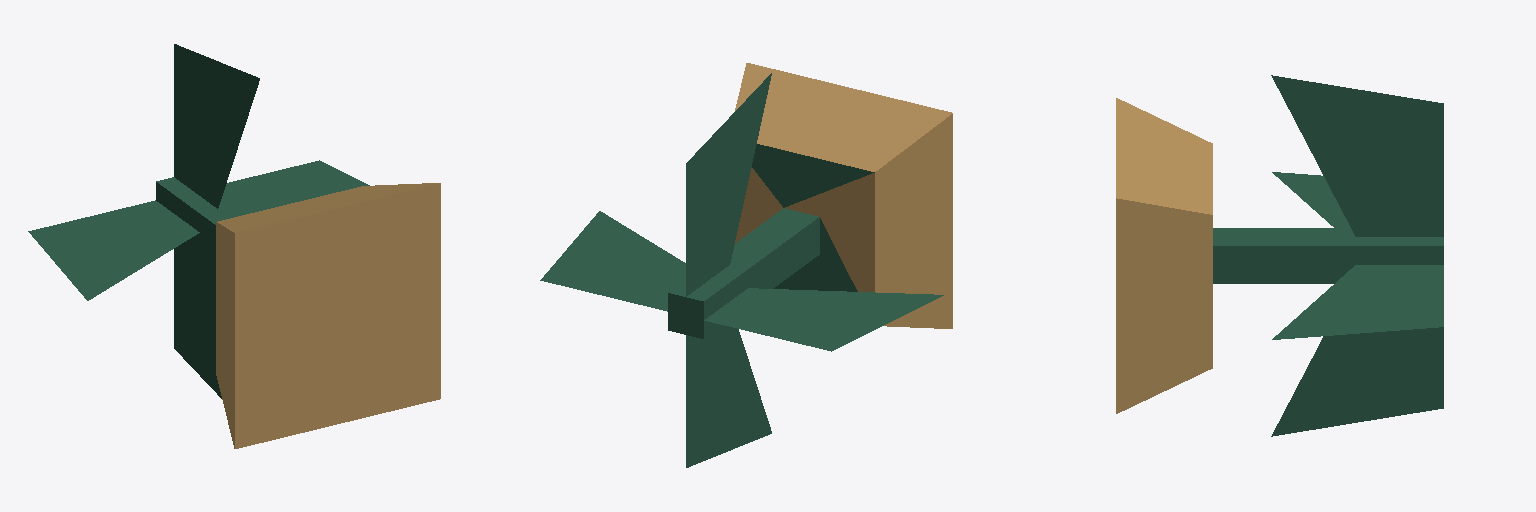
File: flower6.obj
The picture shows the model from 3 angles: view 1: azimuth 30°, elevation 25°; view 2: azimuth 150°, elevation 25°; view 3: azimuth 270°, elevation 25°; orthographic projection.
Parts seen in each view (by area): view 1: Mesh3_Flower_Yellow_Model, Mesh4_Flower_Yellow_Model, Mesh2_Flower_Yellow_Model, Mesh1_Flower_Yellow_Model, Mesh5_Flower_Yellow_Model; view 2: Mesh3_Flower_Yellow_Model, Mesh4_Flower_Yellow_Model, Mesh2_Flower_Yellow_Model, Mesh1_Flower_Yellow_Model, Mesh5_Flower_Yellow_Model; view 3: Mesh3_Flower_Yellow_Model, Mesh4_Flower_Yellow_Model, Mesh1_Flower_Yellow_Model, Mesh5_Flower_Yellow_Model, Mesh2_Flower_Yellow_Model.
Part boxes in pixels (bbox=[...]): Mesh3_Flower_Yellow_Model: bbox=[156, 177, 440, 448]; Mesh4_Flower_Yellow_Model: bbox=[174, 44, 259, 208]; Mesh2_Flower_Yellow_Model: bbox=[28, 200, 199, 300]; Mesh1_Flower_Yellow_Model: bbox=[174, 242, 221, 398]; Mesh5_Flower_Yellow_Model: bbox=[223, 160, 369, 213]; Mesh3_Flower_Yellow_Model: bbox=[668, 63, 952, 338]; Mesh4_Flower_Yellow_Model: bbox=[686, 73, 771, 296]; Mesh2_Flower_Yellow_Model: bbox=[704, 288, 943, 351]; Mesh1_Flower_Yellow_Model: bbox=[686, 325, 771, 467]; Mesh5_Flower_Yellow_Model: bbox=[540, 211, 685, 311]; Mesh3_Flower_Yellow_Model: bbox=[1116, 98, 1443, 413]; Mesh4_Flower_Yellow_Model: bbox=[1271, 75, 1443, 236]; Mesh1_Flower_Yellow_Model: bbox=[1271, 327, 1443, 436]; Mesh5_Flower_Yellow_Model: bbox=[1272, 265, 1443, 339]; Mesh2_Flower_Yellow_Model: bbox=[1272, 172, 1350, 227].
Bounding box in the file's own units: 2.4 × 2.4 × 1.97.